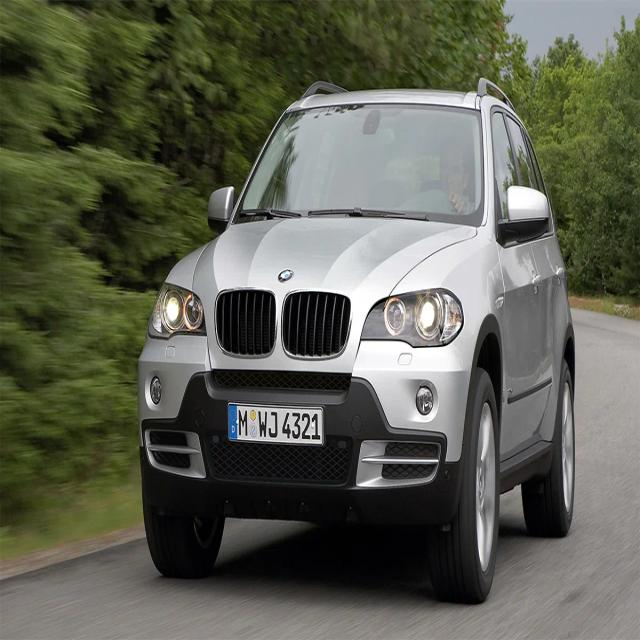number-plates: (226, 403, 324, 453)
